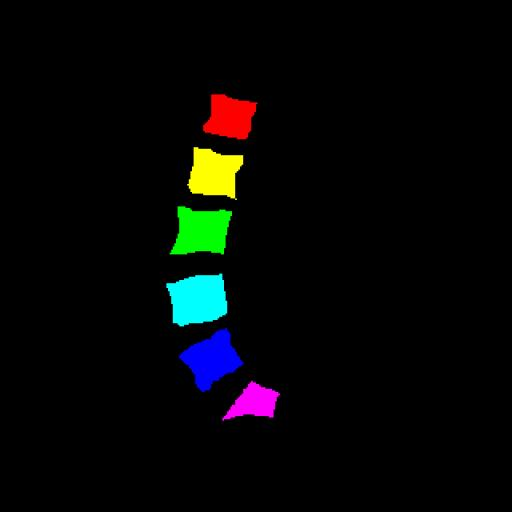L1: (203, 94, 257, 138)
L2: (188, 147, 243, 198)
L3: (170, 206, 232, 254)
L4: (166, 274, 227, 326)
L5: (179, 329, 243, 392)
S1: (222, 381, 279, 420)
